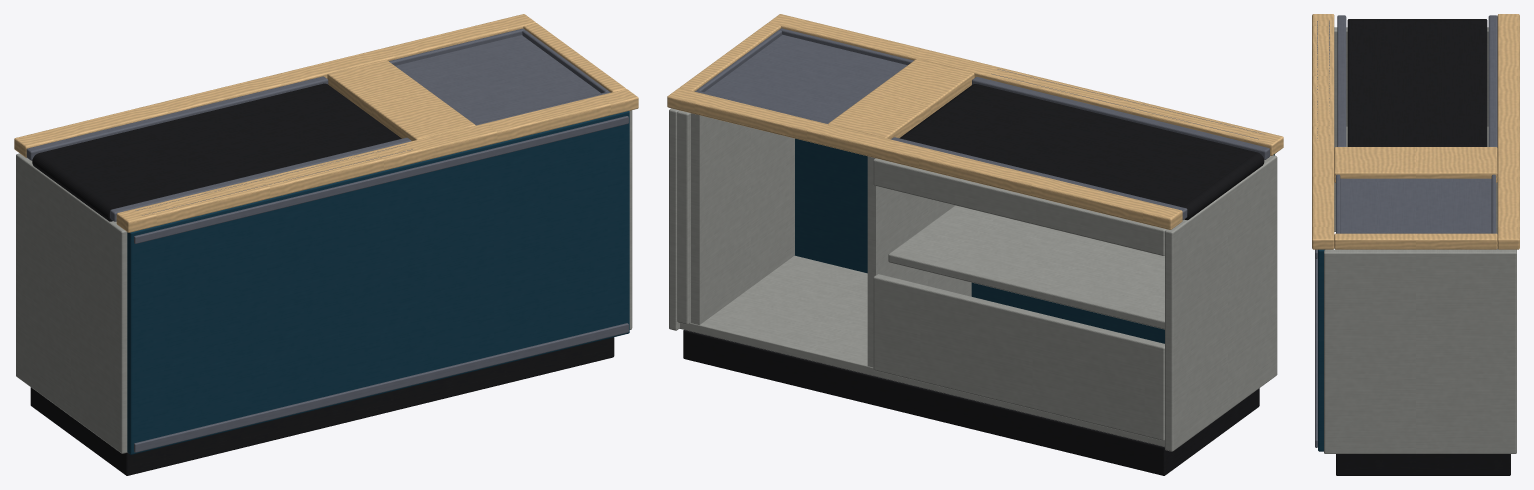
The model's file is checkout_counter.glb.
3 renders of one model, left to right at view 1: azimuth 30°, elevation 25°; view 2: azimuth 150°, elevation 25°; view 3: azimuth 270°, elevation 25°, orthographic. The views are drawn at different scales.
Parts seen in each view (by area): view 1: checkout_counter.001; view 2: checkout_counter.001; view 3: checkout_counter.001.
Part boxes in pixels (x1,y1,x2,y2): checkout_counter.001: (14,14,638,475); checkout_counter.001: (667,14,1283,475); checkout_counter.001: (1312,14,1519,475).
Size of what is drawn, in the model's own units: 1.8 by 0.9 by 0.7.
Materials: 6 (6 with a texture image).
